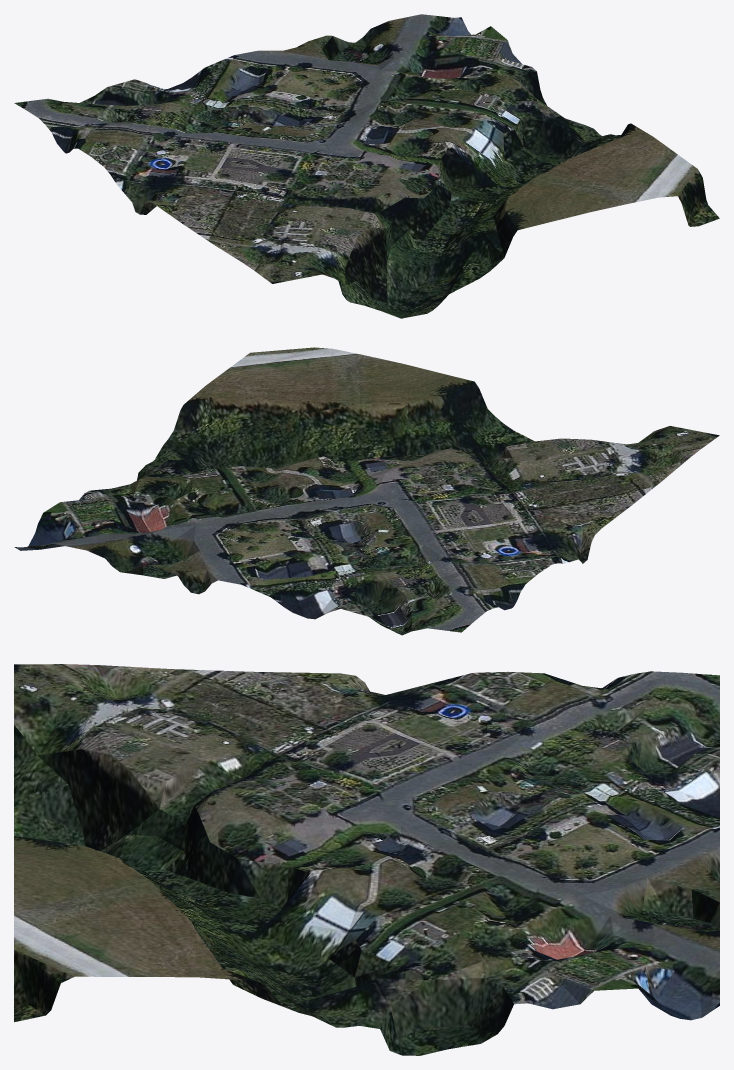
File: map_15_8177_13784.dae
3 views of the same model, one above another, from view 1: azimuth 30°, elevation 25°; view 2: azimuth 150°, elevation 25°; view 3: azimuth 270°, elevation 25° (orthographic). The views are drawn at different scales.
Parts seen in each view (by area): view 1: Ter0; view 2: Ter0; view 3: Ter0.
Part boxes in pixels (<box>): Ter0: <box>14,14,719,318</box>; Ter0: <box>14,347,719,635</box>; Ter0: <box>14,664,719,1055</box>.
Size of the model in its own units: 63.87 by 63.88 by 10.46.
Materials: 2 (2 with a texture image).
